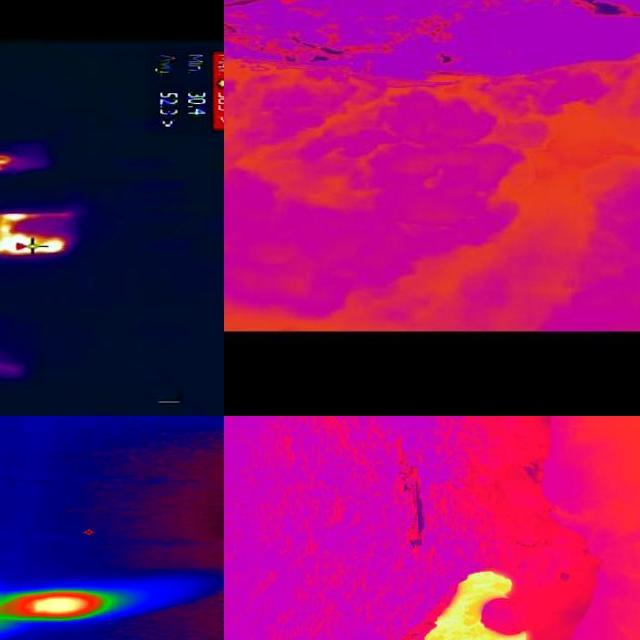fire: (416, 569, 540, 640), (1, 589, 145, 623), (1, 211, 74, 257), (1, 151, 18, 175)
